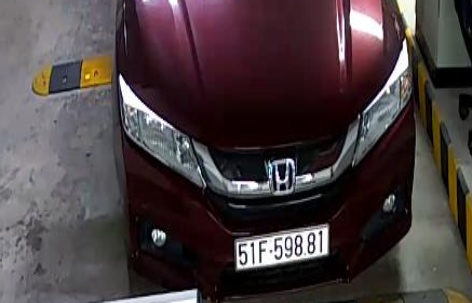plate: (230, 224, 334, 272)
